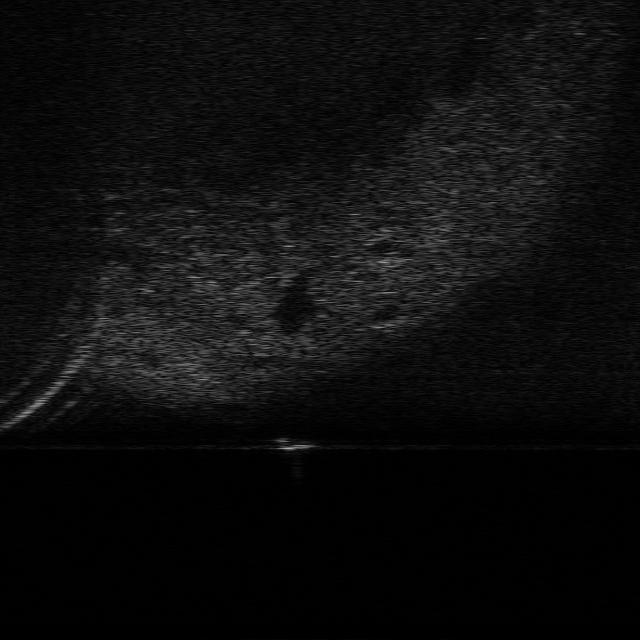cube: (271, 433, 325, 452)
